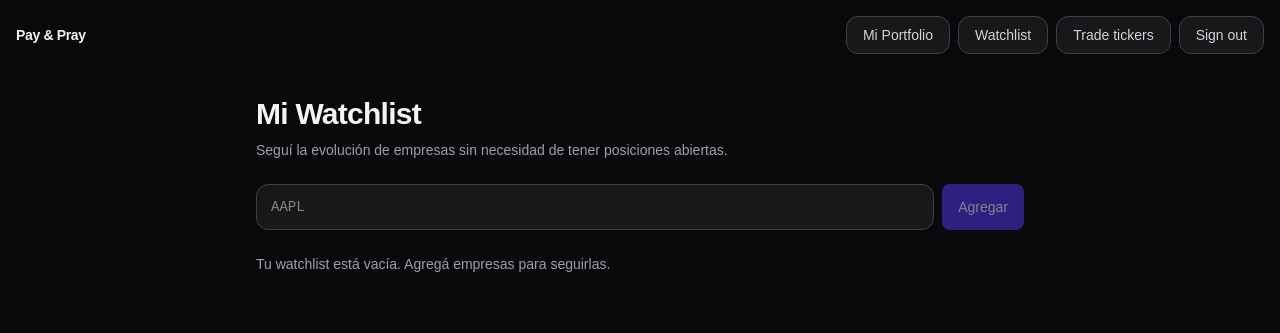
Test: Watchlist page › muestra un error si la empresa no existe
Type "ZZZZ" into the field with id "ticker". click: x=595, y=207
box: x1=256 y1=184 x2=934 y2=230
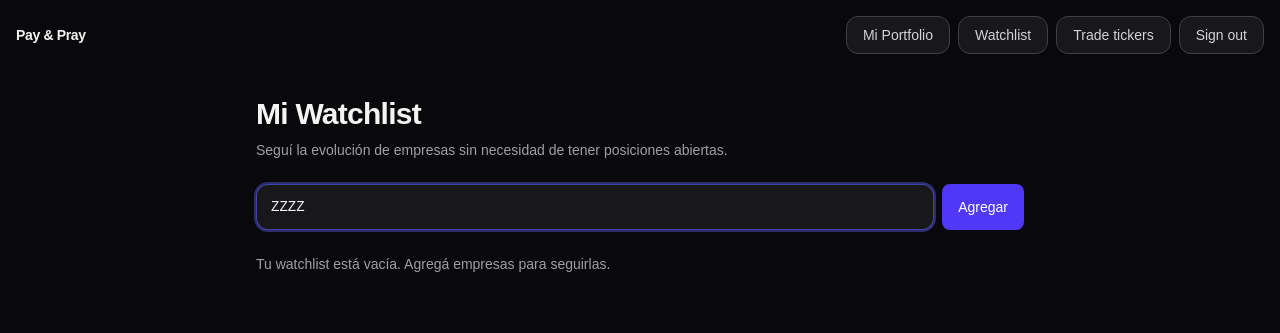
Click the button "Agregar". click: x=983, y=207
box: x1=942 y1=184 x2=1024 y2=230
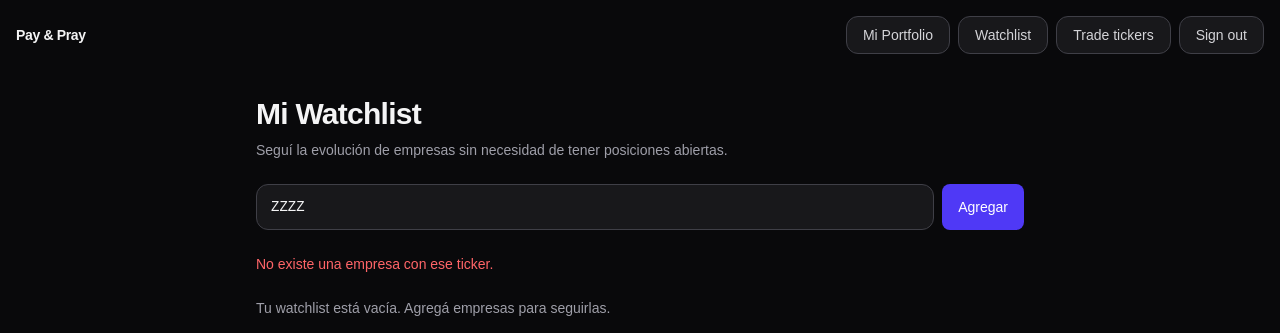
Expected: the text "No existe una empresa con ese ticker." is shown, x1=256 y1=256 x2=493 y2=272
